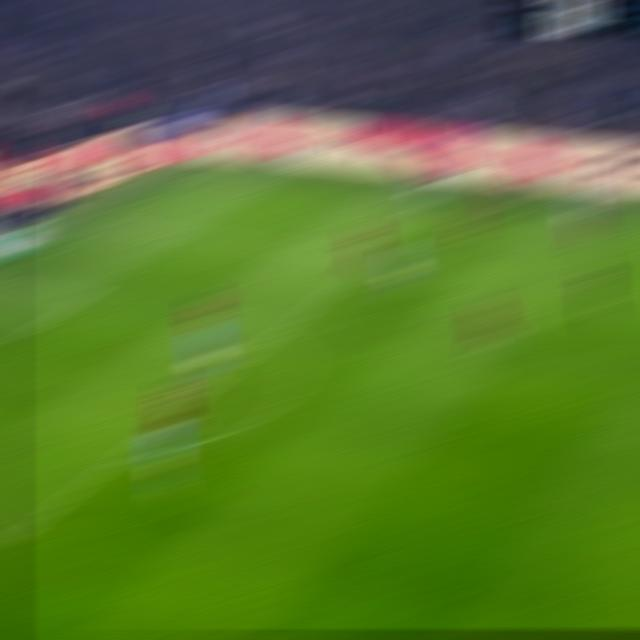bigarea_top_outter: (93, 219, 122, 227)
bottom_arc_area_intersection: (107, 453, 136, 463)
corner: (206, 165, 235, 170)
smallarea_top_inner: (71, 291, 103, 302)
top_arc_area_intersection: (261, 331, 289, 343)
